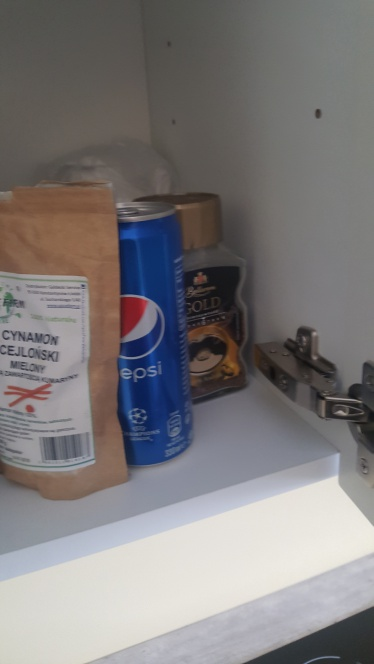pepsi: (101, 193, 193, 475)
